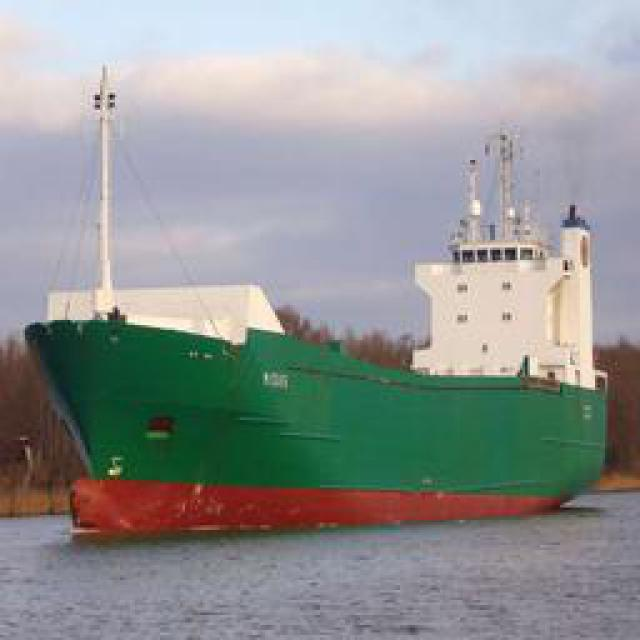Ship: (21, 101, 611, 524)
